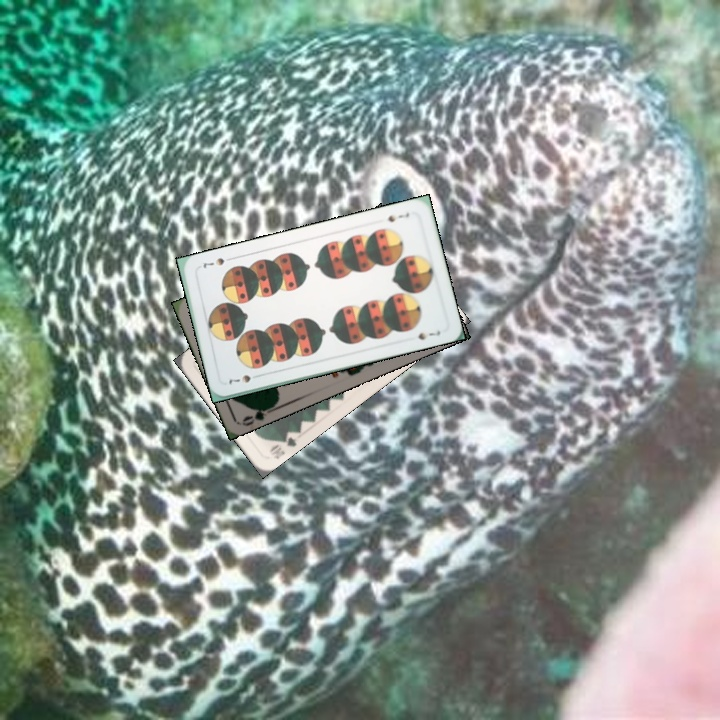G10: (266, 429, 299, 461)
GO: (238, 402, 278, 428)
S7: (225, 370, 263, 387), (384, 208, 412, 225)
